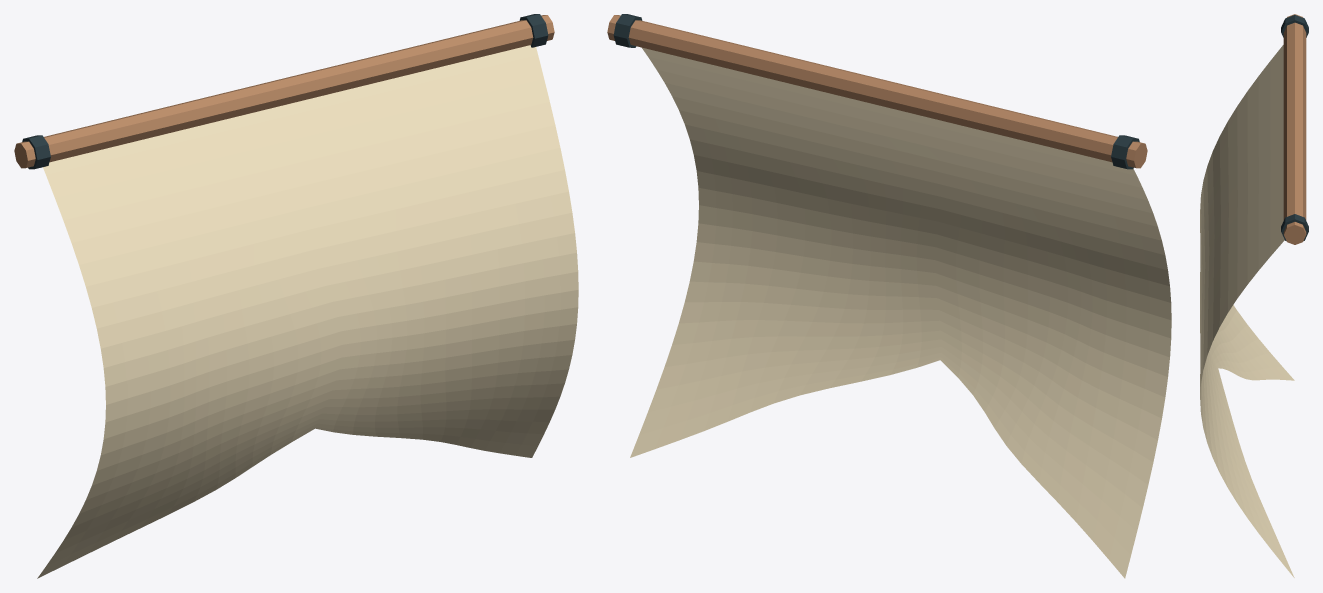
File: secondary_sail_swallowtail.glb
3 renders of one model, left to right at view 1: azimuth 30°, elevation 25°; view 2: azimuth 150°, elevation 25°; view 3: azimuth 270°, elevation 25°, orthographic. The views are drawn at different scales.
Parts seen in each view (by area): view 1: secondary_sail cloth swallowtail, secondary_sail yard.002; view 2: secondary_sail cloth swallowtail, secondary_sail yard.002; view 3: secondary_sail cloth swallowtail, secondary_sail yard.002, Yard iron collar.015, Yard iron collar.014.
Part boxes in pixels (x1,y1,x2,y2): secondary_sail cloth swallowtail: (37,45,578,578); secondary_sail yard.002: (14,15,554,168); secondary_sail cloth swallowtail: (630,47,1171,578); secondary_sail yard.002: (607,15,1147,168); secondary_sail cloth swallowtail: (1200,45,1294,577); secondary_sail yard.002: (1283,14,1306,244); Yard iron collar.015: (1281,214,1308,240); Yard iron collar.014: (1281,15,1308,37).
Bounding box in the file's own units: 4.68 × 3.75 × 1.02.
